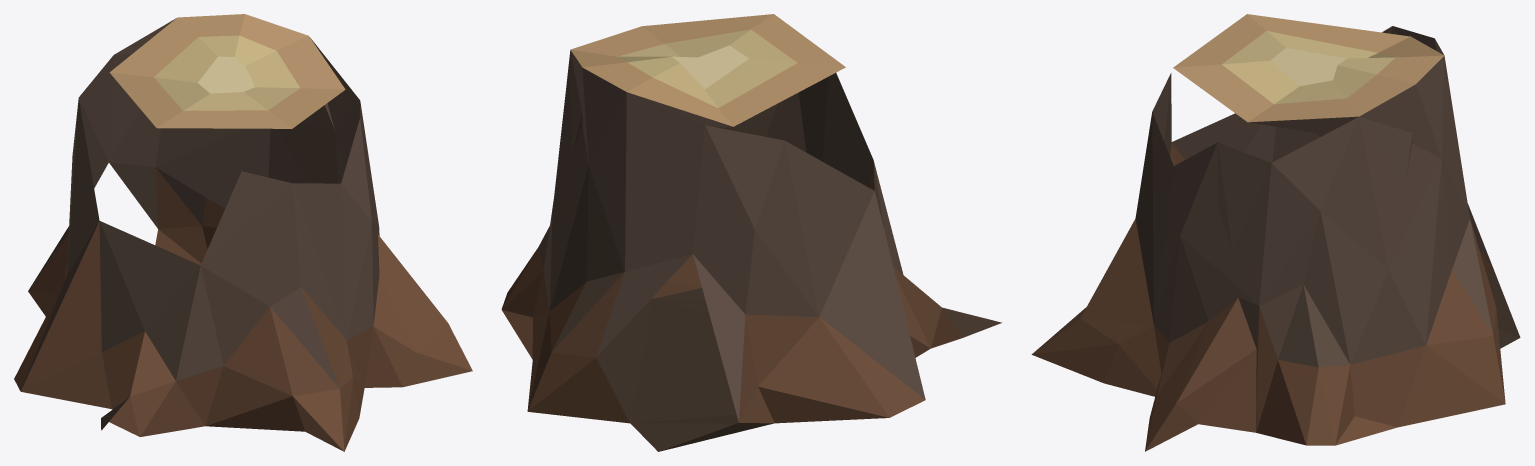
File: tree.stump.2.glb
3 views of the same model, side by side, from view 1: azimuth 30°, elevation 25°; view 2: azimuth 150°, elevation 25°; view 3: azimuth 270°, elevation 25° (orthographic). The views are drawn at different scales.
Parts seen in each view (by area): view 1: stump; view 2: stump; view 3: stump.
Part boxes in pixels (left/top/right/bottom): stump: left=14, top=14, right=472, bottom=451; stump: left=501, top=14, right=1001, bottom=451; stump: left=1031, top=14, right=1520, bottom=451.
Size of the model in its own units: 0.7 by 0.4994 by 0.7.
1 material, 1 textured.
